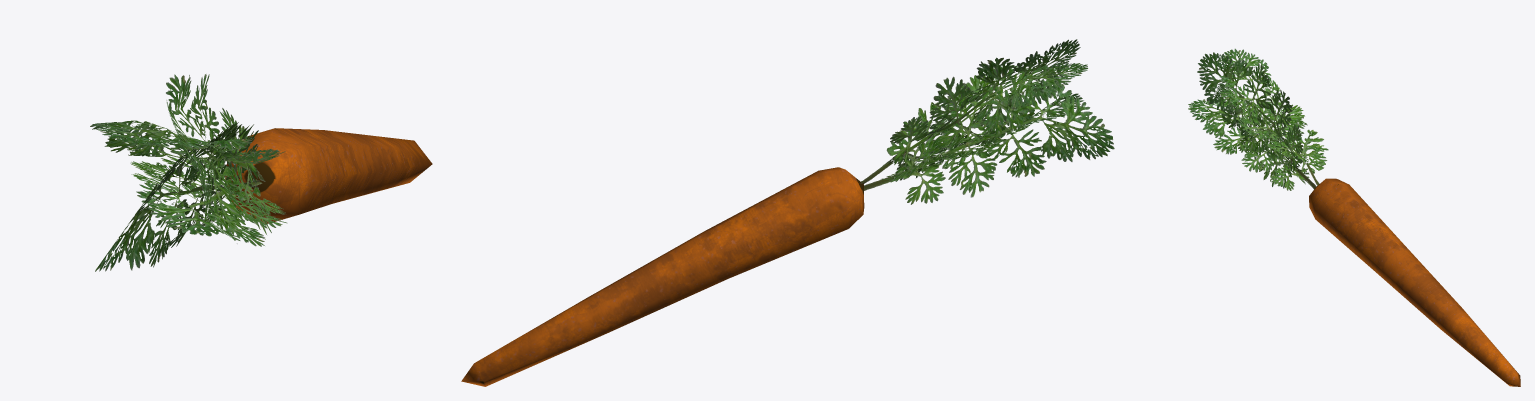
Rendered from carrot.glb.
3 views of the same model, side by side, from view 1: azimuth 30°, elevation 25°; view 2: azimuth 150°, elevation 25°; view 3: azimuth 270°, elevation 25° (orthographic). The views are drawn at different scales.
Visible parts, largest first — view 1: Object_2; view 2: Object_2; view 3: Object_2.
Part boxes in pixels (bbox=[...]): Object_2: bbox=[90, 74, 432, 271]; Object_2: bbox=[461, 39, 1114, 386]; Object_2: bbox=[1188, 48, 1520, 386].
Bounding box in the file's own units: 564 × 383 × 542.
1 material, 1 textured.
